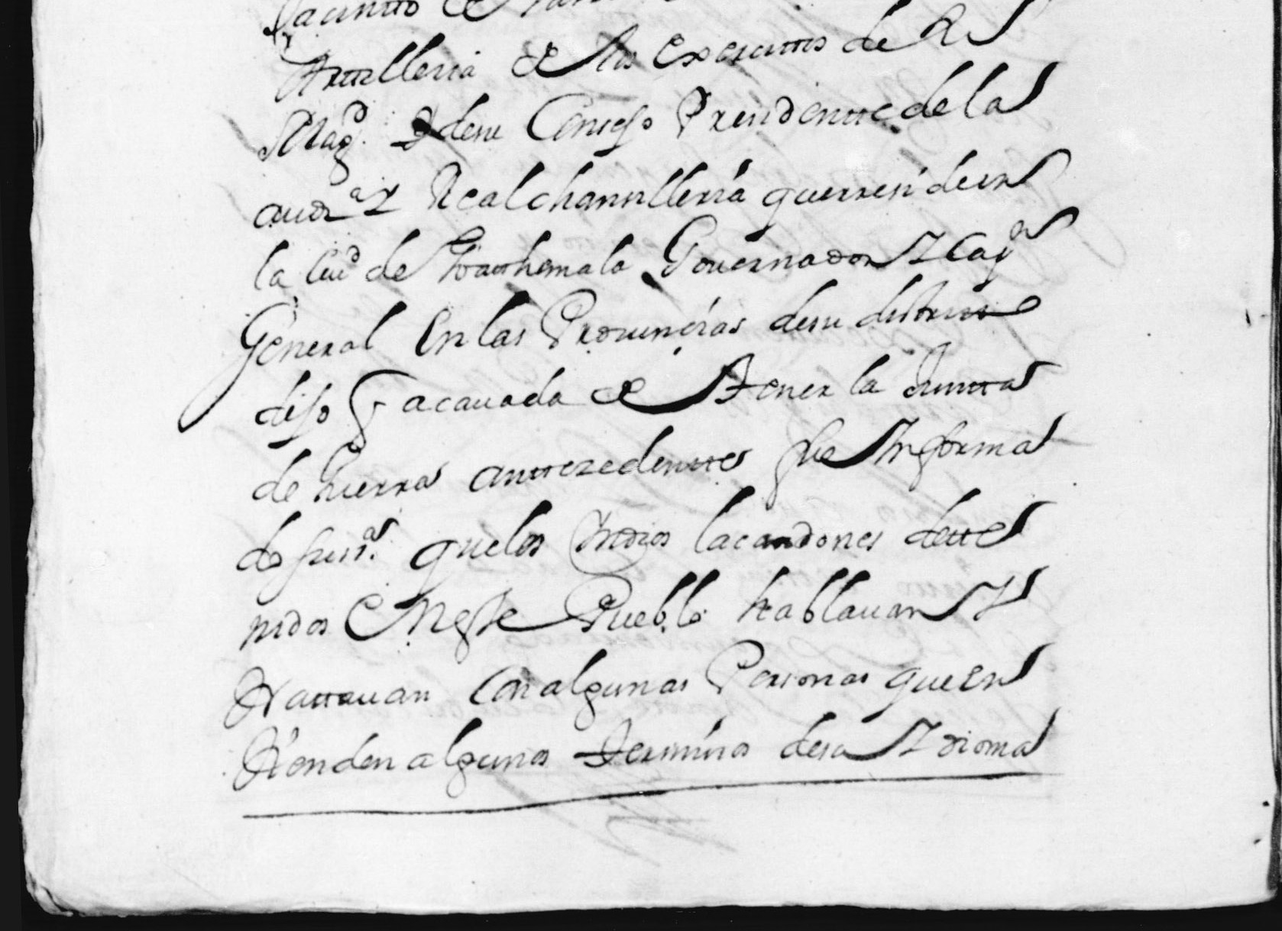lacandon: (694, 485, 882, 553)
